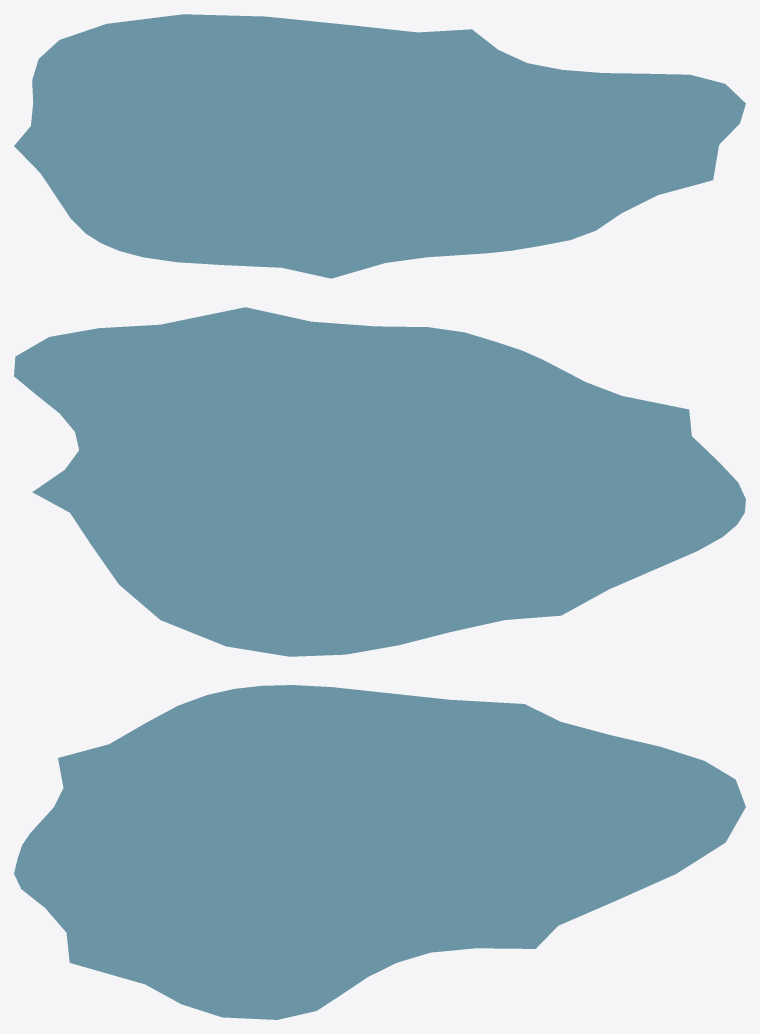
The model's file is water.glb.
The picture shows the model from 3 angles, top to bottom: view 1: azimuth 30°, elevation 25°; view 2: azimuth 150°, elevation 25°; view 3: azimuth 270°, elevation 25°; orthographic projection. The views are drawn at different scales.
Visible parts, largest first — view 1: Plane; view 2: Plane; view 3: Plane.
Boxes of the visible parts, x1,y1,x2,y2 form: Plane: [14, 14, 745, 278]; Plane: [14, 307, 745, 656]; Plane: [14, 685, 745, 1019].
Bounding box in the file's own units: 2.28 × 0 × 2.11.
